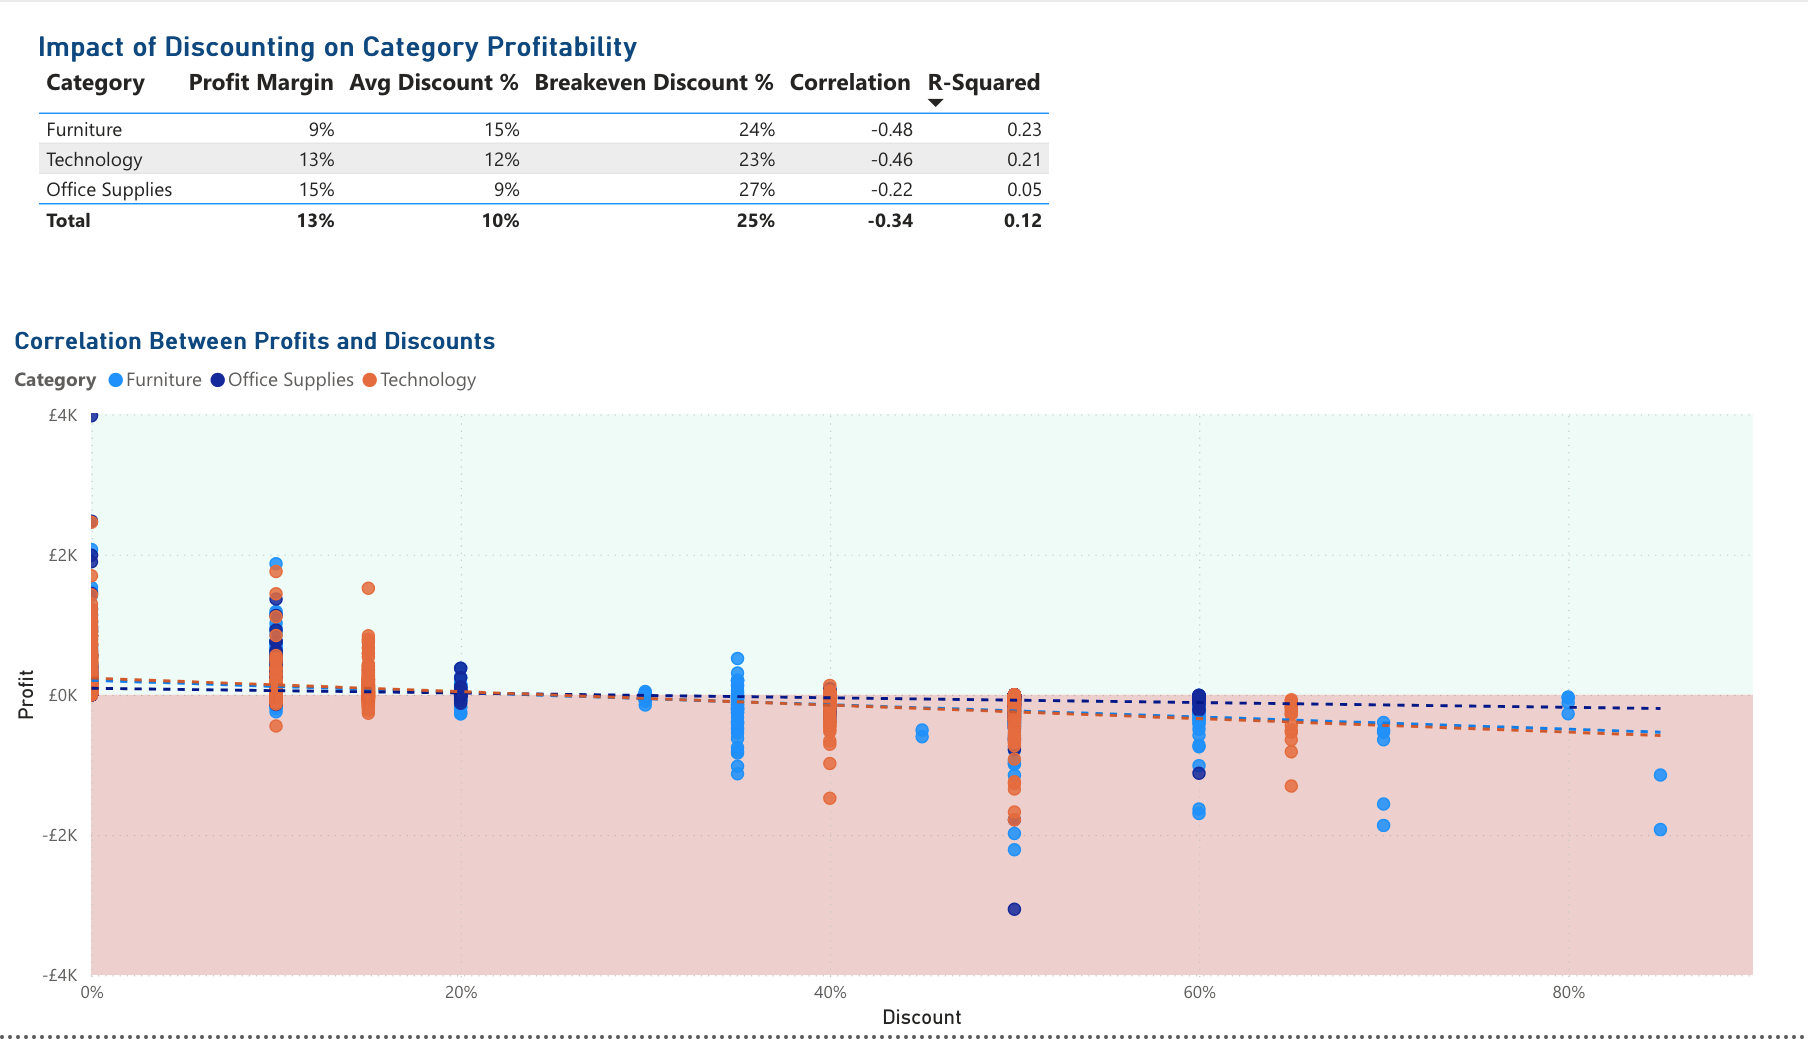

What the dashboard file says about the page in this screenshot:
{"tool":"powerbi","page":{"name":"Correlation and R2","canvas":[1280,720],"ordinal":2},"visuals":[{"type":"tableEx","title":"Impact of Discounting on Category Profitability","fields":{"Values":["EU Superstore 2.Category","EU Superstore 2.Profit Margin","EU Superstore 2.Avg Discount %","EU Superstore 2.Breakeven Discount %","EU Superstore 2.Correlation Discount vs Profit","EU Superstore 2.R-Squared Discount vs Profit"]},"box":[9.8,0,765.1,190.9],"z":0},{"type":"scatterChart","title":"Correlation Between Profits and Discounts","fields":{"X":["EU Superstore 2.Discount"],"Y":["EU Superstore 2.Profit"],"Series":["EU Superstore 2.Category"]},"box":[7.9,211.5,1233.5,508],"z":1000}]}

Visuals, with their boxes in screenshot pixels (x1, y1, x2, y2), scaled from the page's 1280x720 canvas onto the 1808x1040 screenshot:
"Impact of Discounting on Category Profitability" tableEx: x1=14 y1=0 x2=1095 y2=276
"Correlation Between Profits and Discounts" scatterChart: x1=11 y1=306 x2=1753 y2=1039
